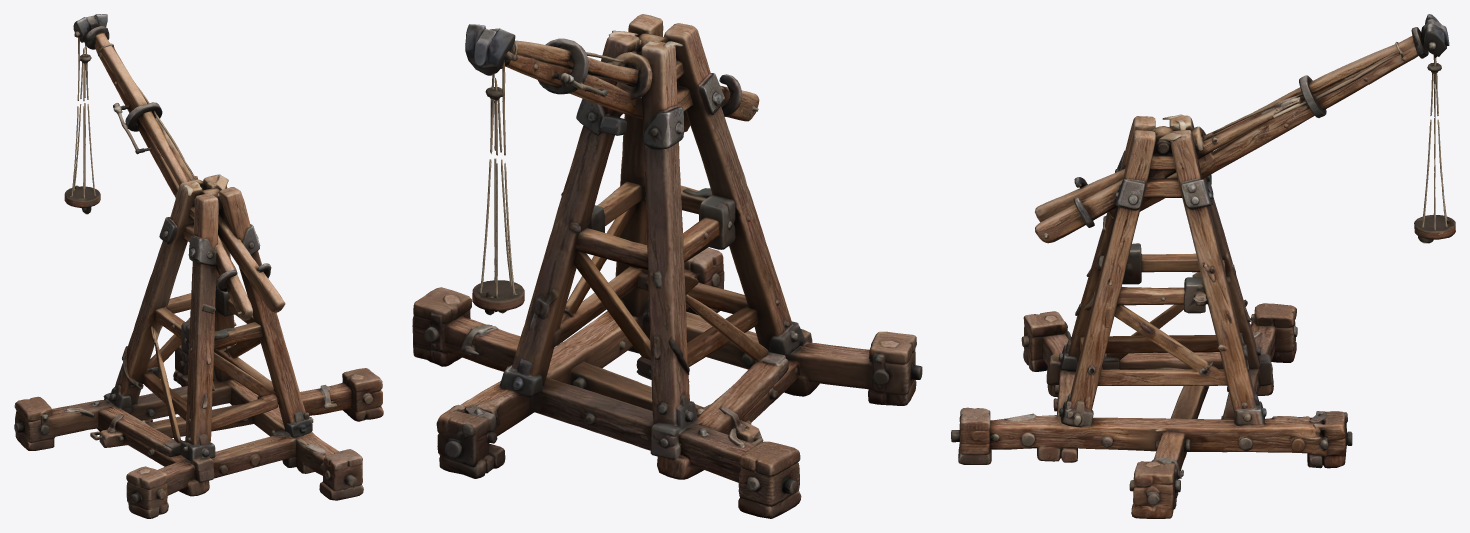
Rendered from trebuchet-high.glb.
3 views of the same model, side by side, from view 1: azimuth 30°, elevation 25°; view 2: azimuth 150°, elevation 25°; view 3: azimuth 270°, elevation 25° (orthographic). The views are drawn at different scales.
Bounding box in the file's own units: 0.8291 × 0.8891 × 0.9995.
1 material, 1 textured.
